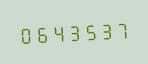five: (81, 19, 96, 42)
four: (49, 21, 64, 44)
seven: (113, 17, 128, 41)
six: (33, 22, 48, 45)
three: (65, 20, 80, 43), (97, 18, 112, 41)
zero: (17, 22, 32, 46)
